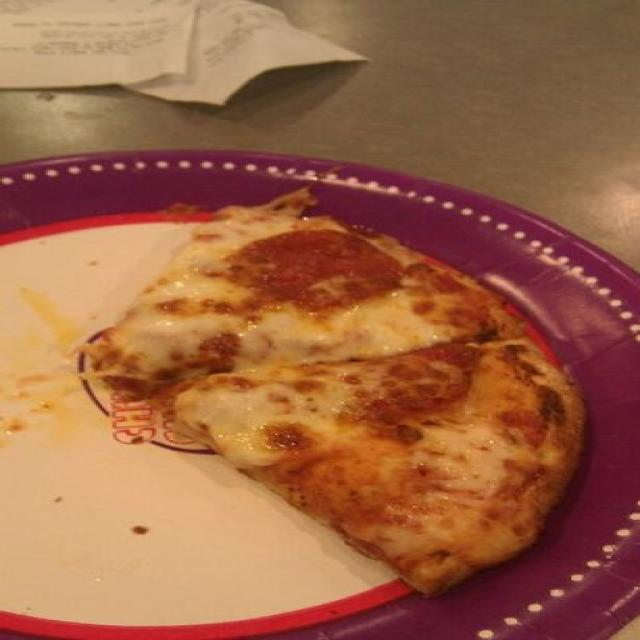Pepperoni: (217, 226, 406, 302)
Pizza: (83, 191, 582, 594)
